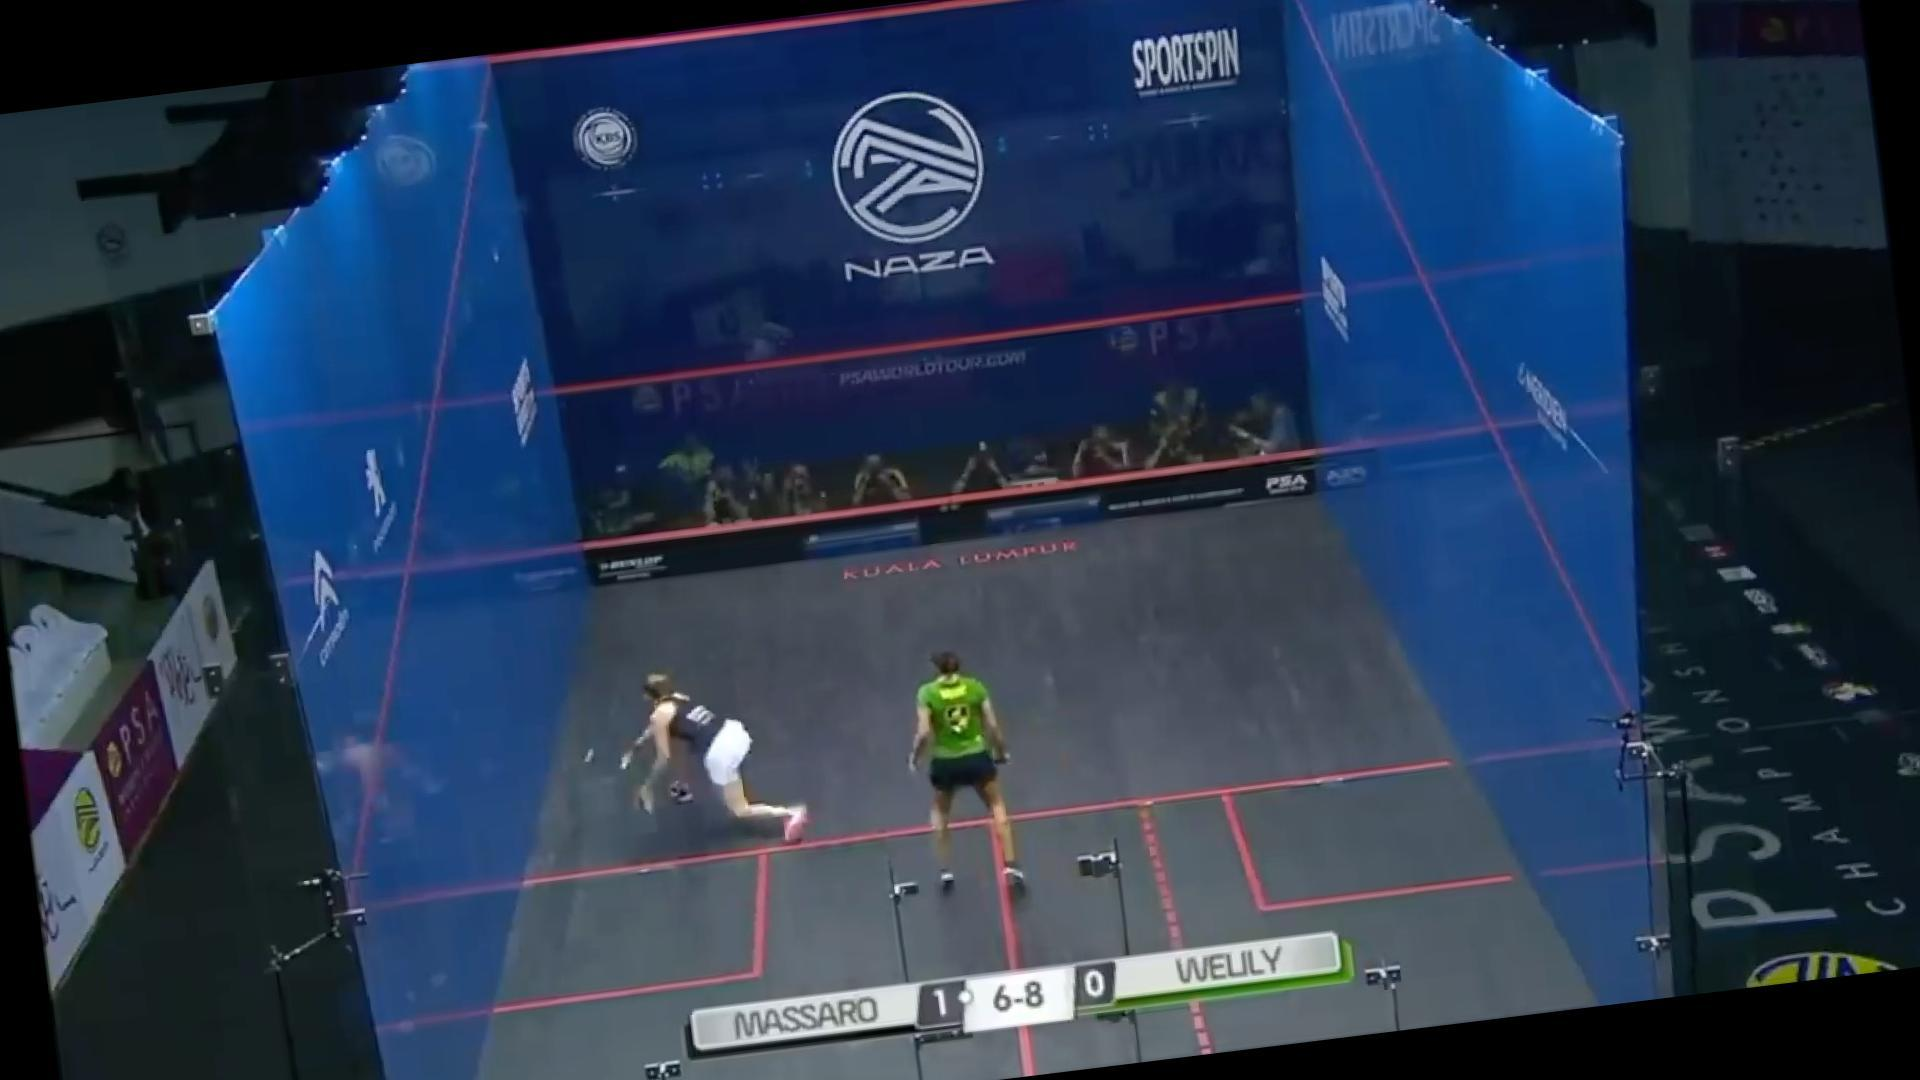Squash-Ball: (571, 738, 603, 774)
